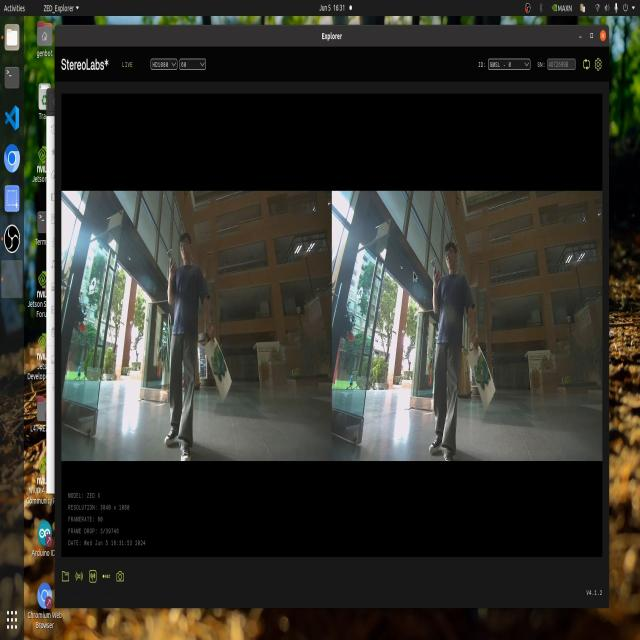green: (472, 353, 494, 399), (210, 343, 230, 390)
